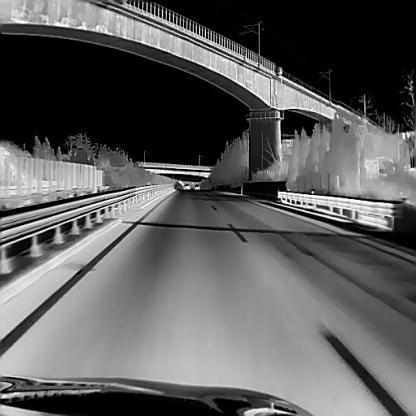car: (183, 182, 190, 189), (194, 182, 200, 188)
